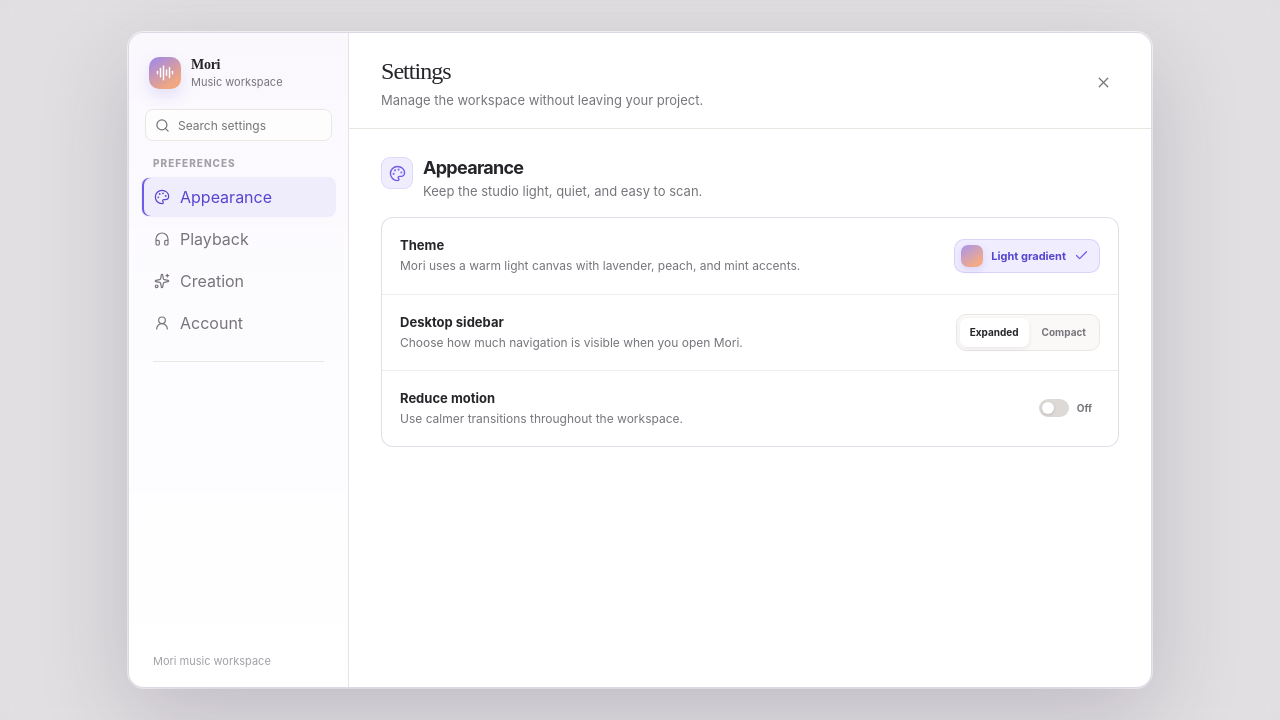
Mori settings › searches concrete preference names and opens the matching section
The image size is (1280, 720).
In the field labelled "Search settings": {"x": 238, "y": 125} [145,109,332,141], type "autoplay"
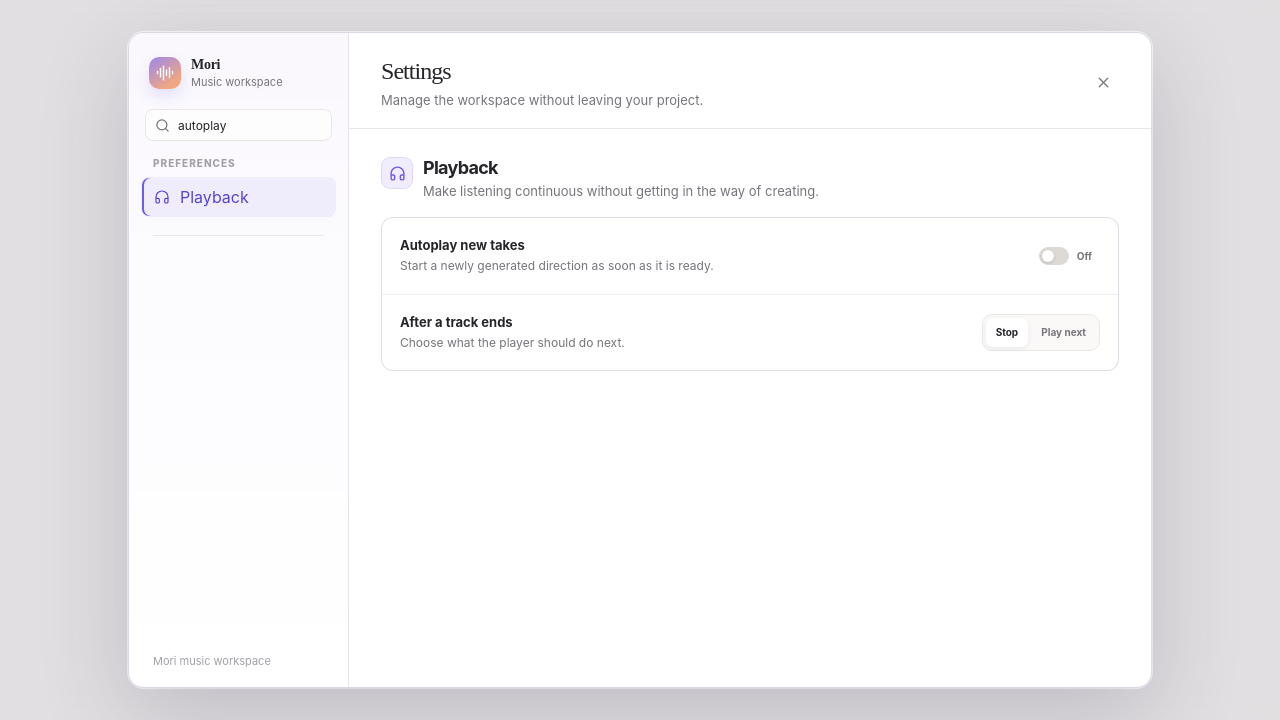
Now the text "Autoplay new takes" is shown, box [400,237,525,253]
Replace the text in the field named "Search settings" with "reduce motion": {"x": 238, "y": 125} [145,109,332,141]
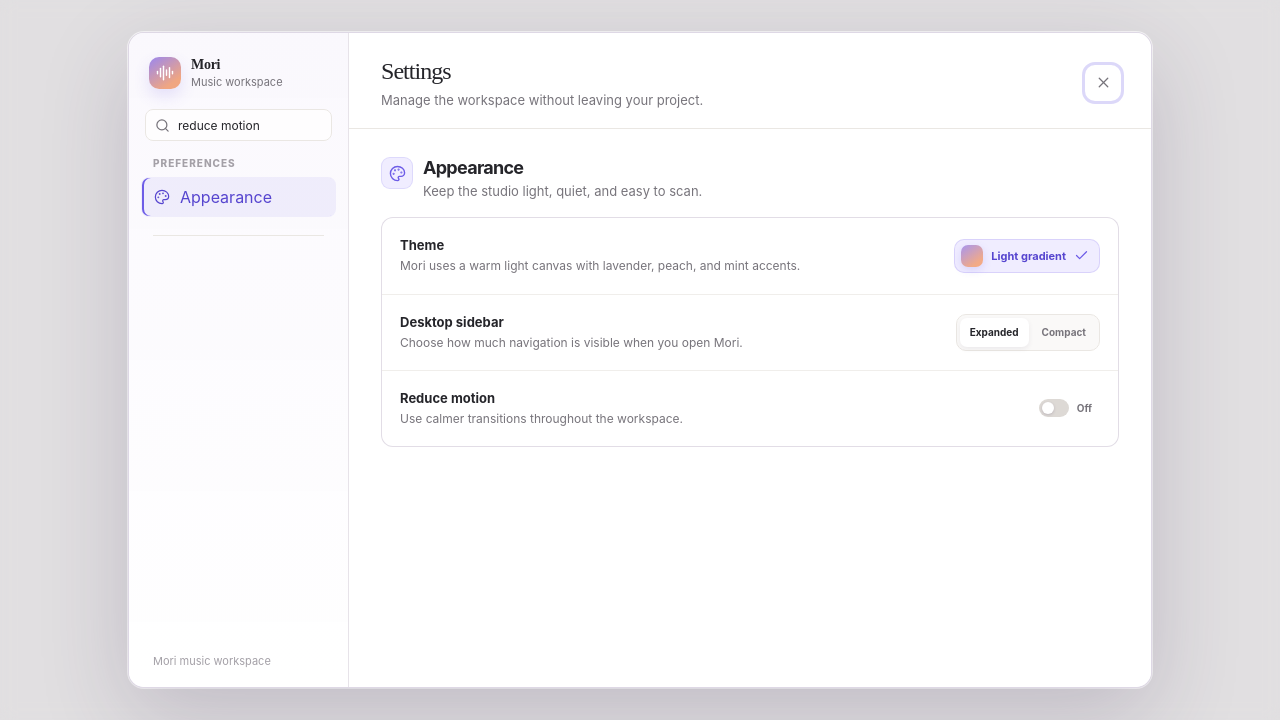
Now the text "Reduce motion" is shown, box [400,390,495,406]
